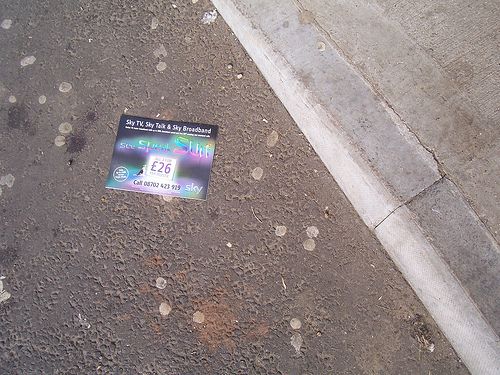litter: (104, 112, 220, 201)
